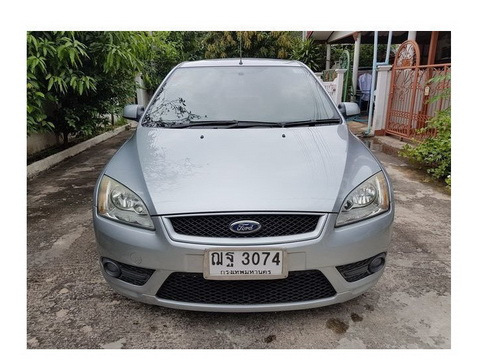numplate: (202, 246, 288, 280)
